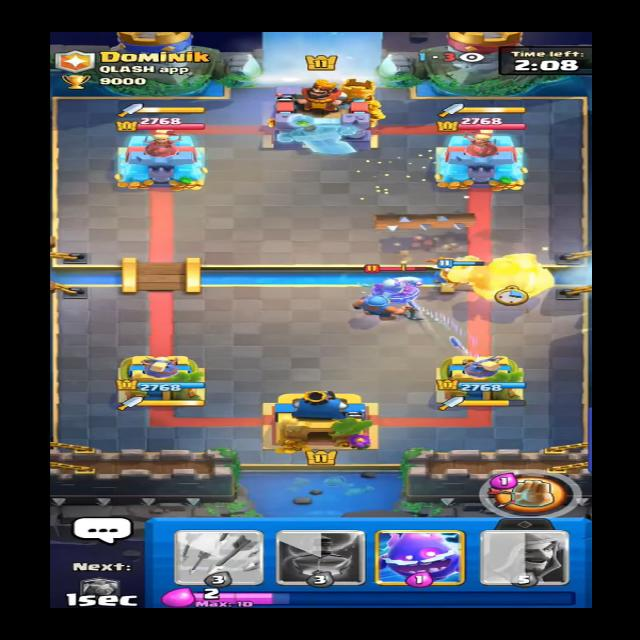Goblindemolisher: (369, 262, 438, 300)
